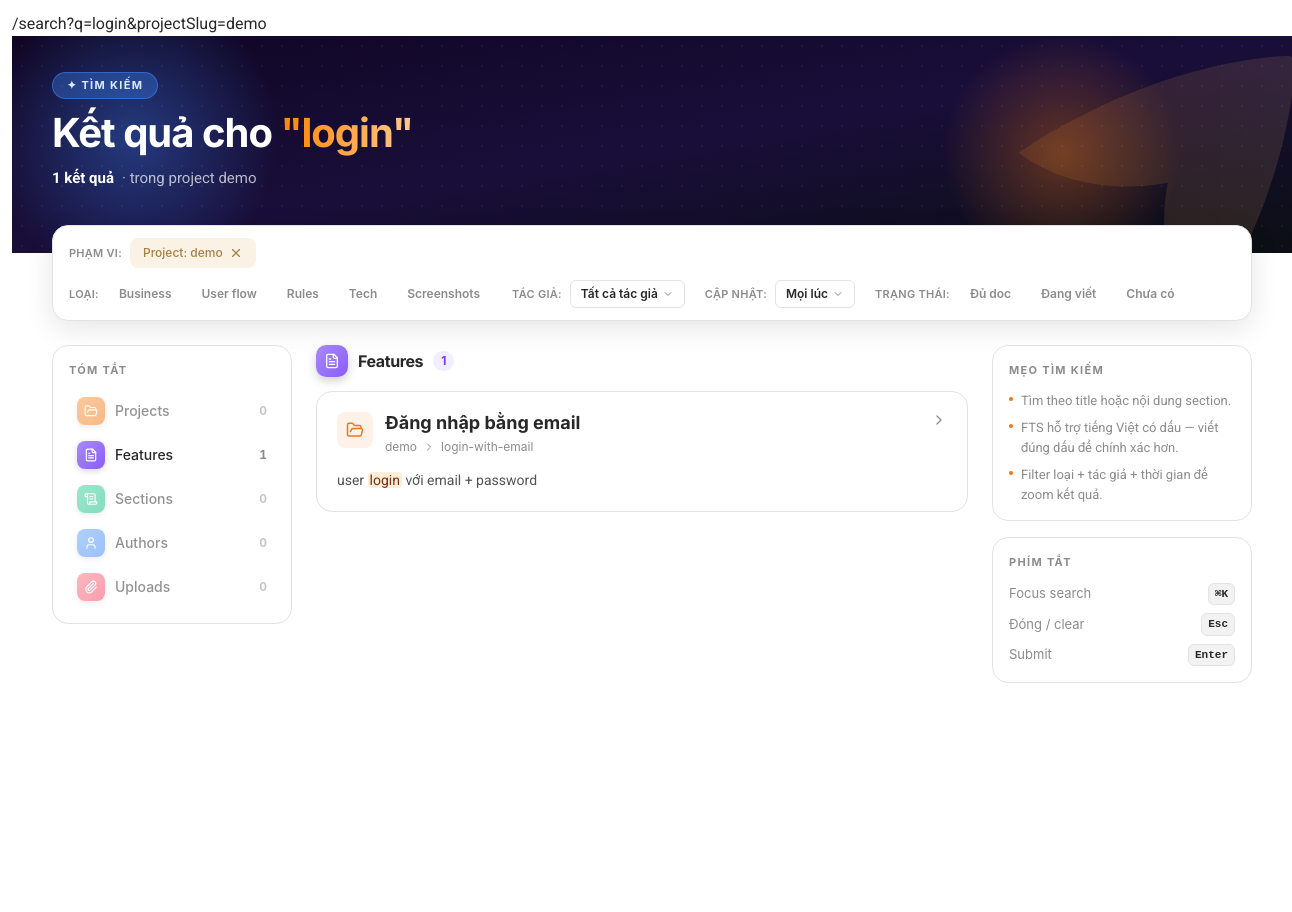
Test case: SearchPage › shows scope chip when projectSlug is in URL; click X removes it
Check: the text "1 kết quả" is shown, box [52,166,114,189]
# Click X → projectSlug gone, count updates to 2
What coordinates should you click on to do the following:
click the button with aria-label "bỏ lọc"
I would click on:
 (193, 253)
Its box is [130,238,256,268].
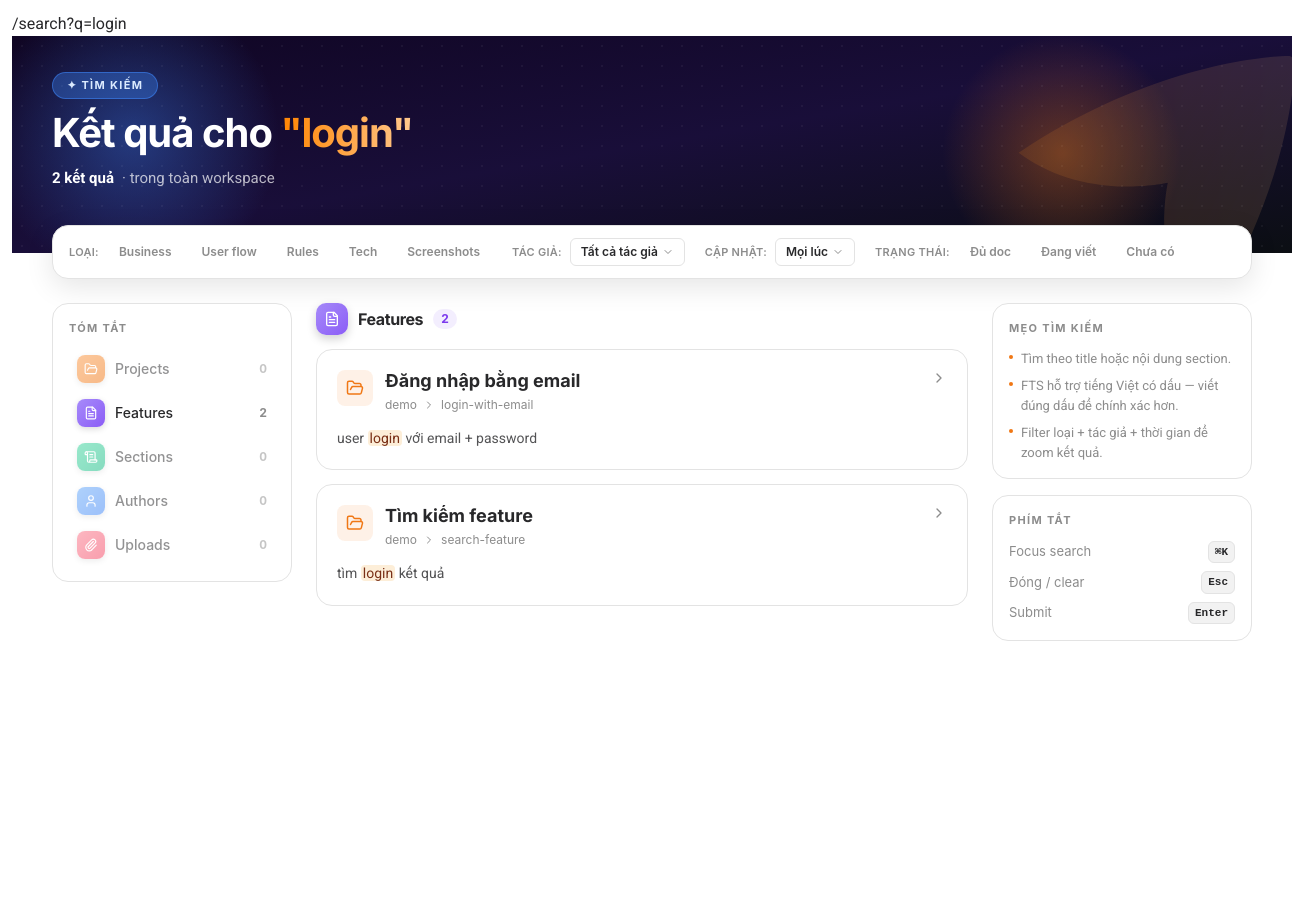
Check: the text with test id "loc" shows "q=login", box [12,14,127,33]
Check: the text "2 kết quả" is shown, box [52,166,114,189]
Check: the text with test id "loc" no longer shows "projectSlug="
